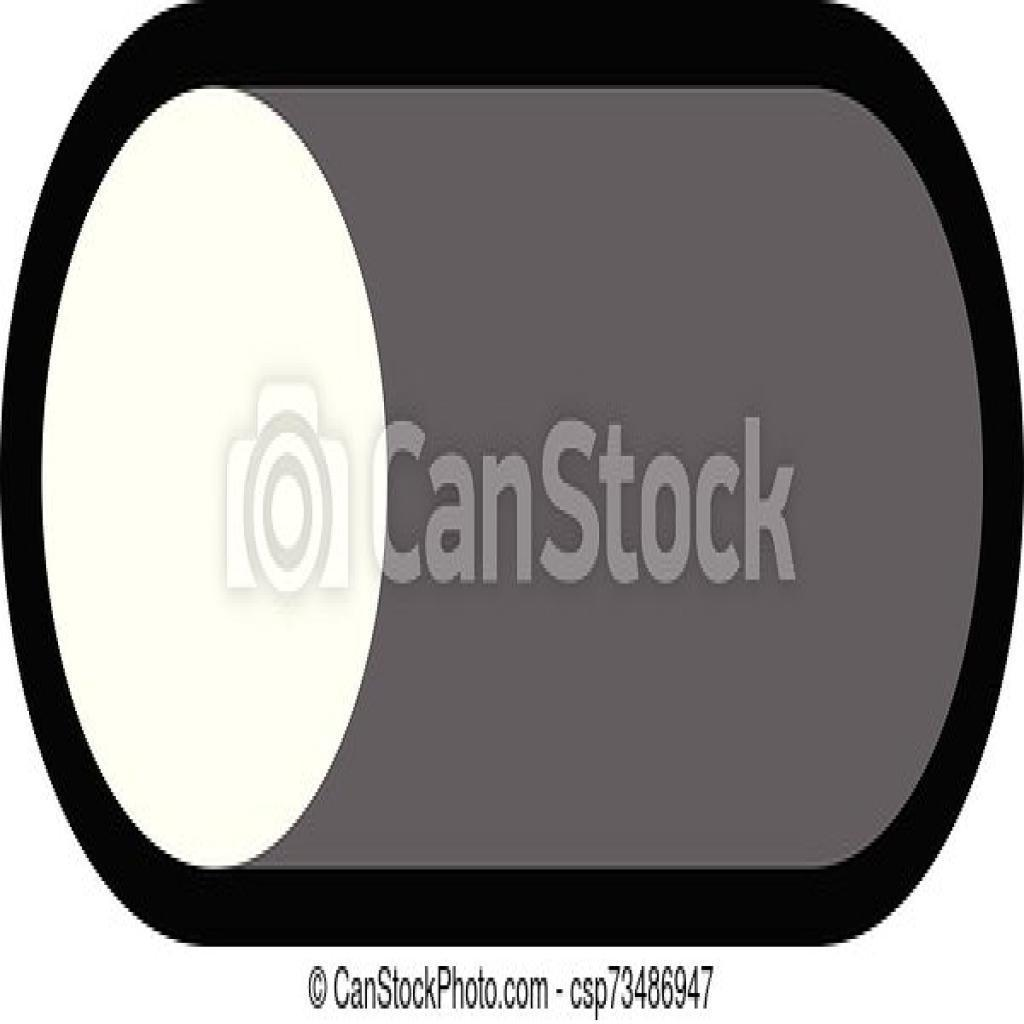switch: (2, 1, 1024, 944)
